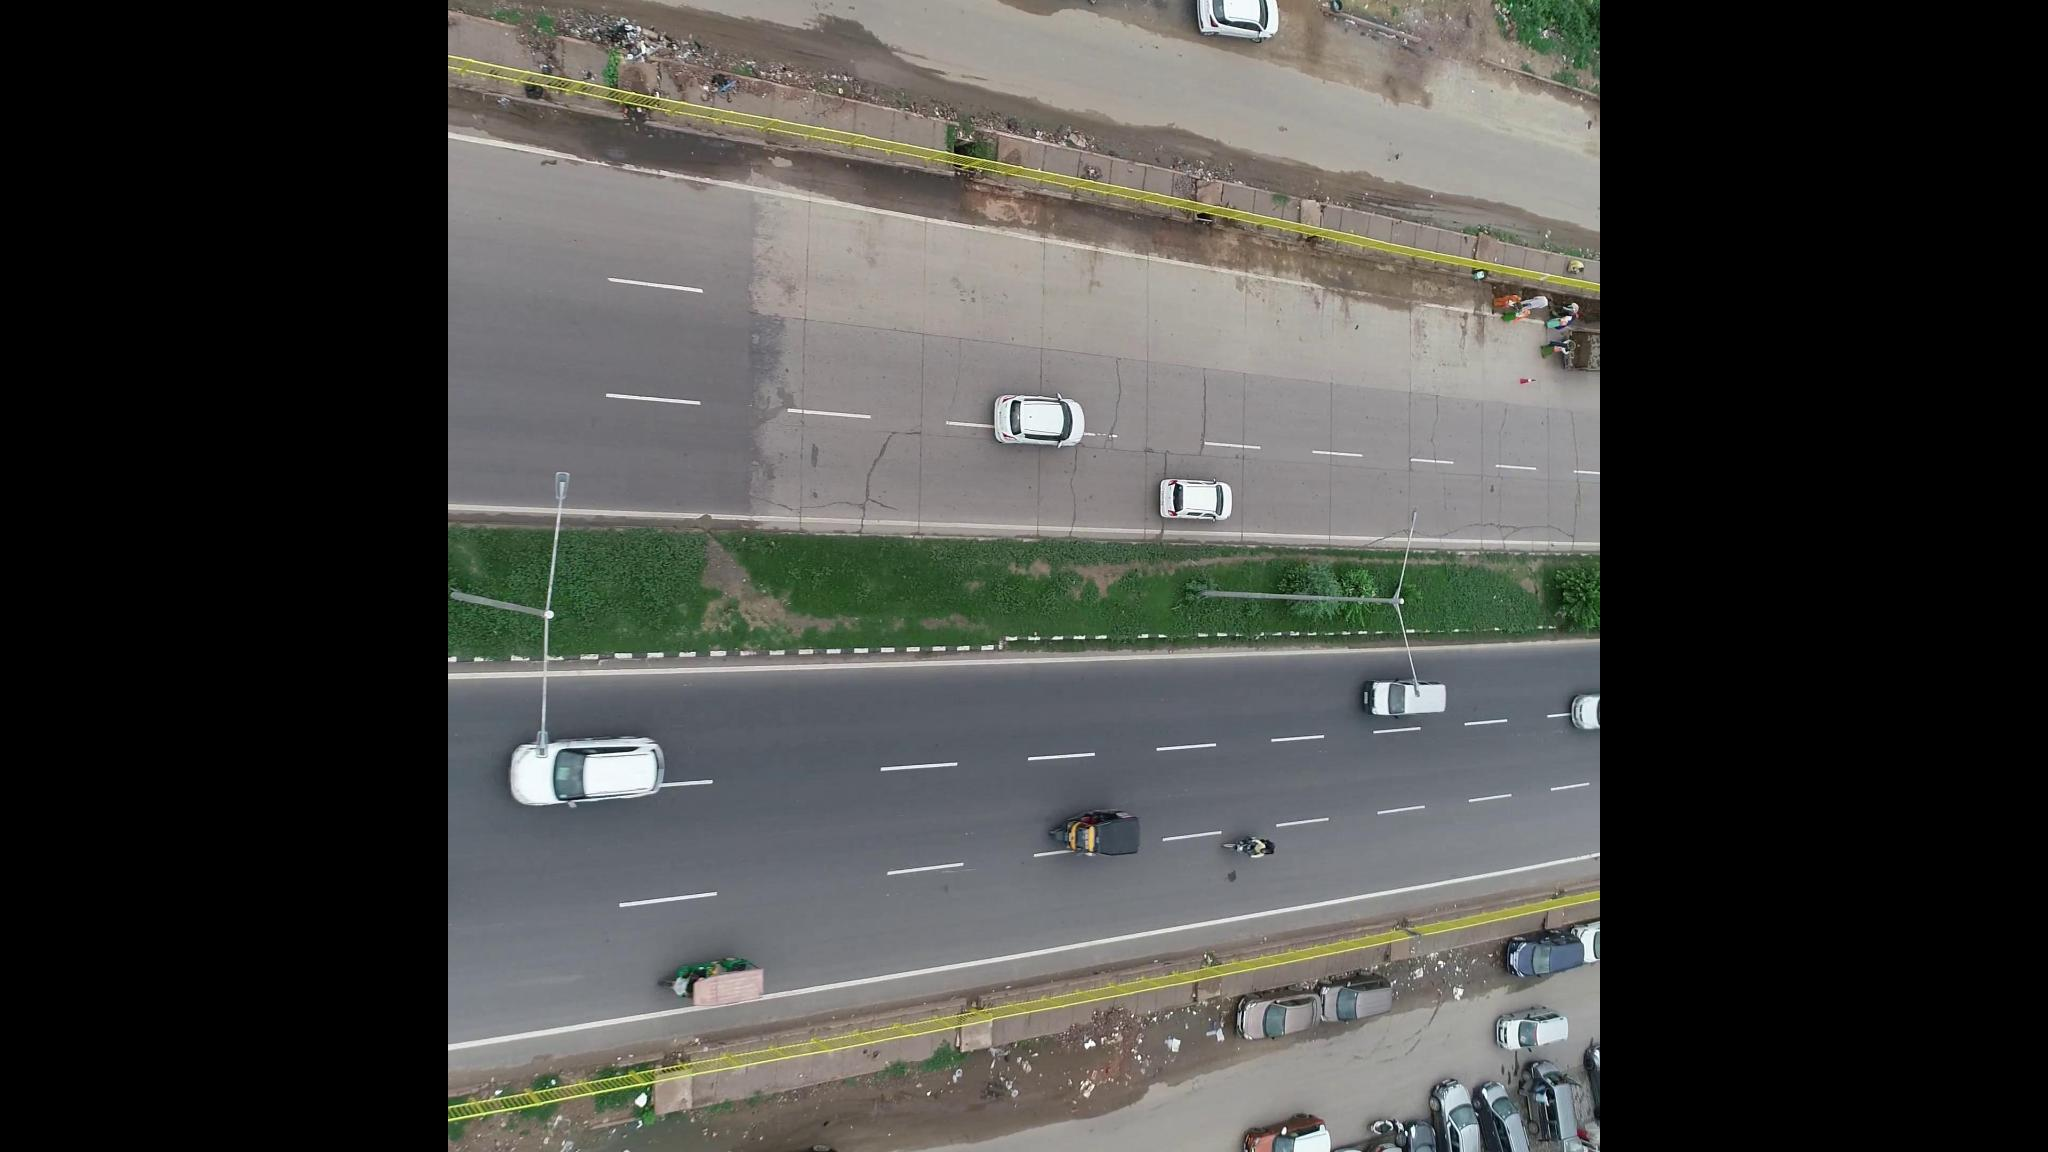Muddy_road: (881, 1055, 1127, 1152)
